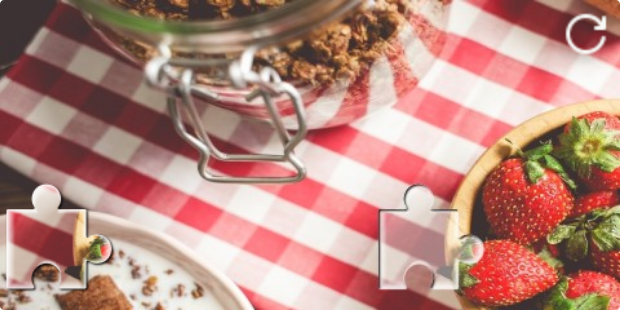target: (379, 185, 483, 289)
